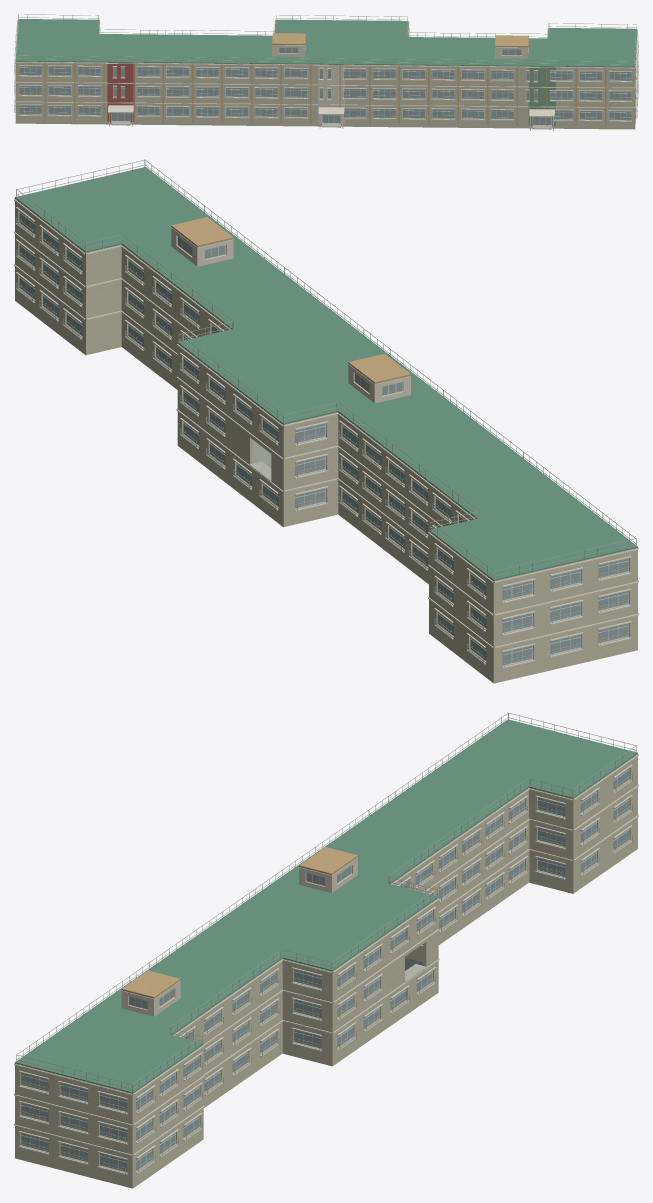
3 views of the same model, one above another, from view 1: azimuth 30°, elevation 25°; view 2: azimuth 150°, elevation 25°; view 3: azimuth 270°, elevation 25° (orthographic). The views are drawn at different scales.
Parts seen in each view (by area): view 1: main__wall, main__roof, main__glass, main__trim, main__metal, main__frame, main__ochre, main__cream, main__red, main__green, main__threshold-entry; view 2: main__roof, main__wall, main__glass, main__trim, main__metal, main__frame, main__ochre, main__cream; view 3: main__roof, main__wall, main__glass, main__trim, main__metal, main__frame, main__ochre, main__cream.
Part boxes in pixels (x1,y1,x2,y2): main__wall: (15,21,637,129); main__roof: (15,19,637,67); main__glass: (19,47,631,124); main__trim: (14,20,638,130); main__metal: (14,14,638,120); main__frame: (19,47,631,125); main__ochre: (44,33,606,126); main__cream: (272,35,528,123); main__red: (107,62,134,121); main__green: (528,66,555,125); main__threshold-entry: (111,121,551,129); main__roof: (15,167,637,580); main__wall: (15,198,637,683); main__glass: (19,211,628,665); main__trim: (14,198,638,668); main__metal: (15,159,636,667); main__frame: (19,211,628,665); main__ochre: (170,185,616,529); main__cream: (171,227,410,403); main__roof: (15,719,637,1093); main__wall: (15,754,637,1188); main__glass: (21,769,628,1171); main__trim: (14,754,638,1174); main__metal: (16,712,636,1174); main__frame: (21,768,629,1172); main__ochre: (60,736,483,1030); main__cream: (121,857,357,1016).
Size of the model in its own units: 90.47 by 13.04 by 63.89.
Materials: 12 (2 with a texture image).
